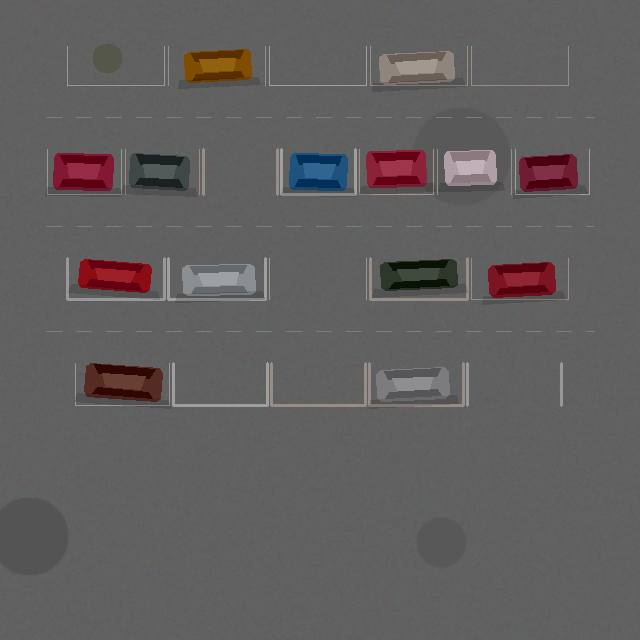space-empty: (269, 258, 366, 299), (173, 363, 267, 405), (271, 363, 365, 405), (467, 363, 561, 405), (67, 46, 164, 85), (269, 46, 366, 85), (471, 46, 568, 85), (203, 149, 277, 194)
space-occupied: (67, 258, 164, 299), (168, 258, 265, 299), (370, 258, 467, 299), (471, 258, 568, 299), (75, 363, 169, 405), (369, 363, 463, 405), (168, 46, 265, 85), (370, 46, 467, 85), (47, 149, 121, 194), (125, 149, 199, 194), (281, 149, 355, 194), (359, 149, 433, 194), (437, 149, 511, 194), (515, 149, 589, 194)
